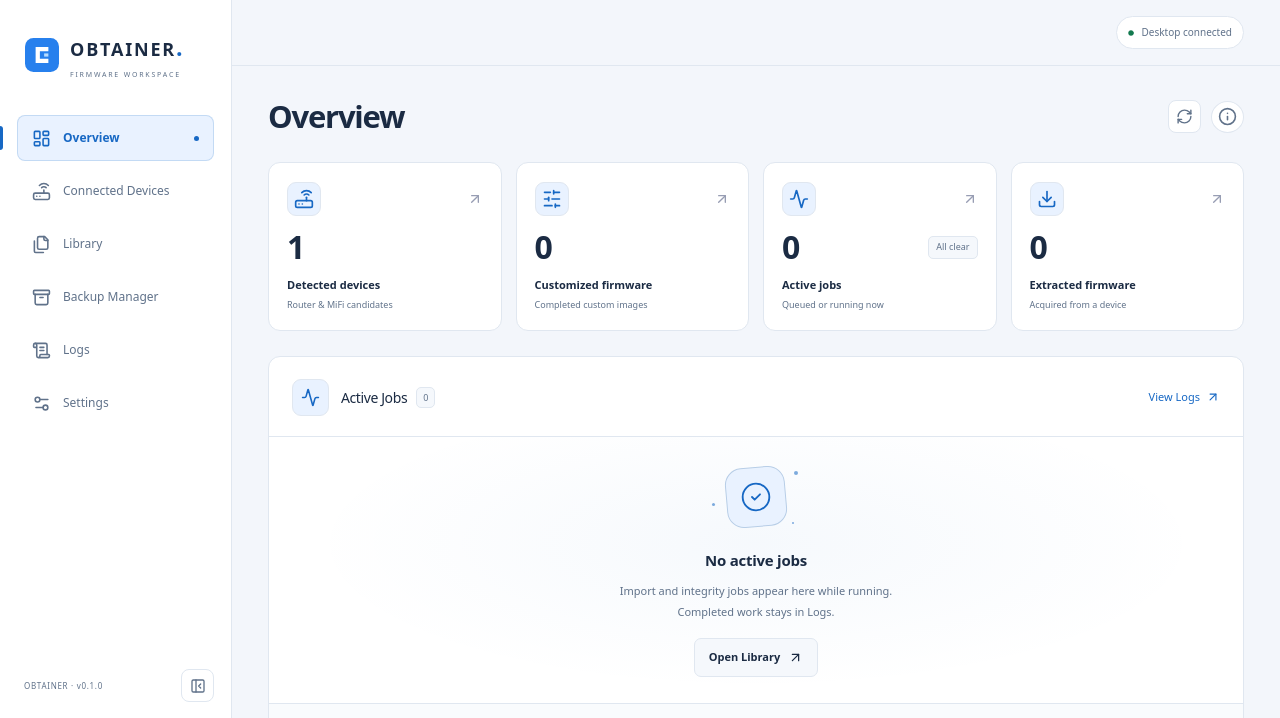
Test case: opens contextual help from Overview
The width and height of the screenshot is (1280, 718).
Check: the text "Desktop connected" is shown, box [1142, 25, 1232, 40]
Click the link "Overview" at (116, 138), box [17, 115, 214, 161]
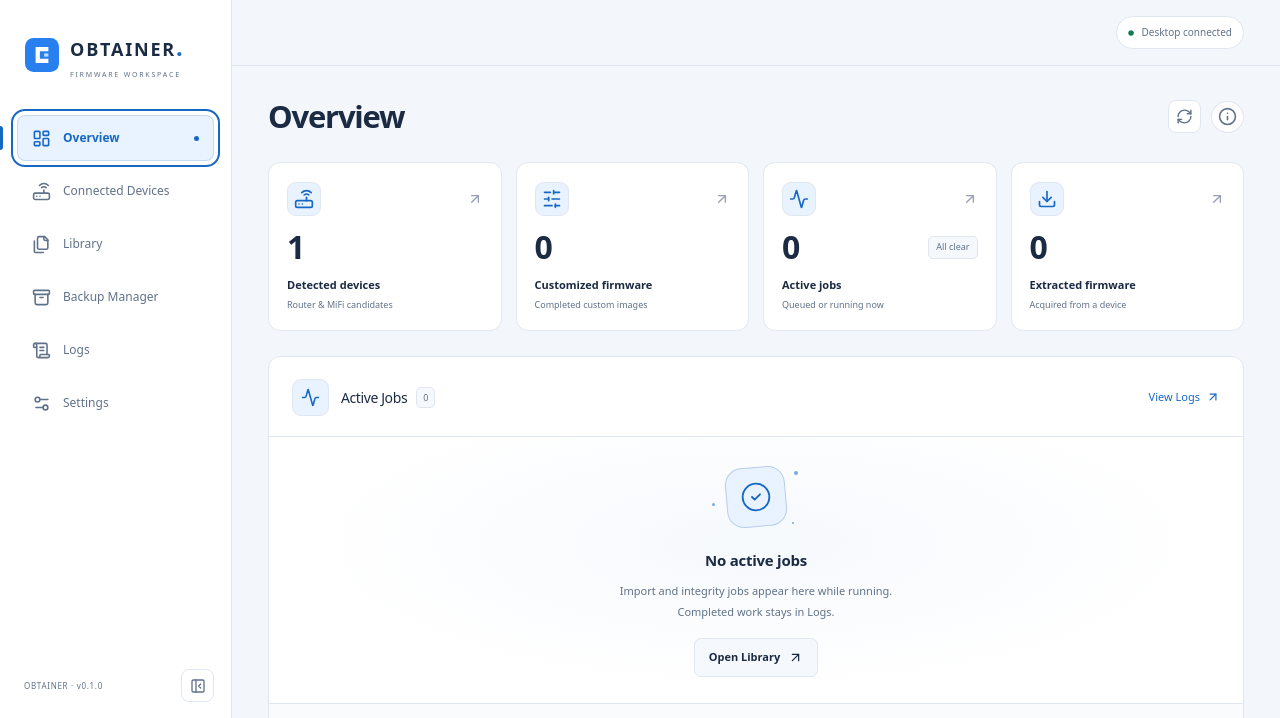
Click the button named "How to use this page" at (1228, 117), box [1211, 101, 1244, 133]
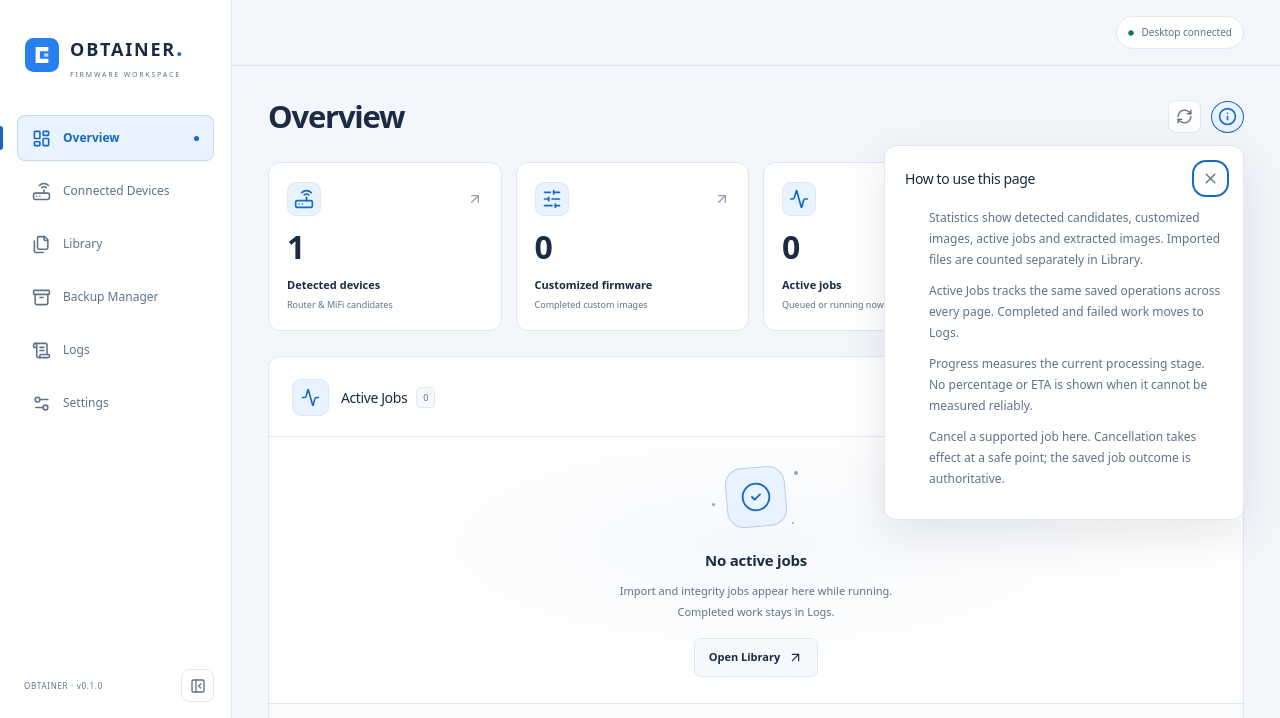
Check: the dialog "How to use this page" is shown, box [884, 145, 1244, 520]
Press Escape
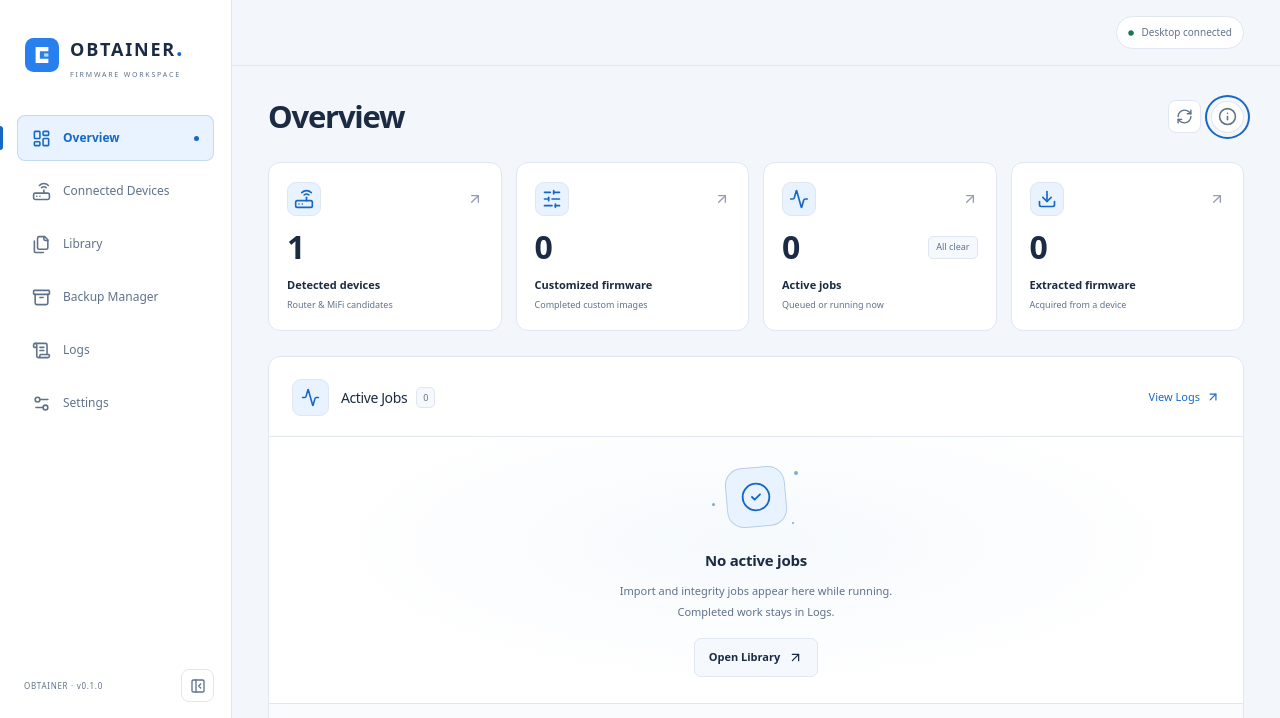
Check: the dialog is gone
